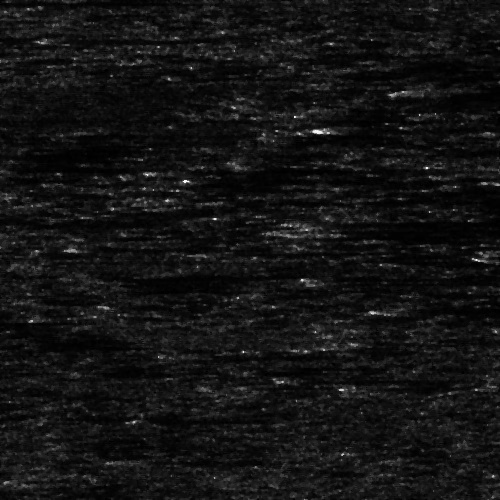object: (231, 208, 356, 231), (252, 124, 367, 133), (382, 85, 465, 94), (263, 374, 346, 383), (24, 242, 129, 249), (89, 456, 172, 463), (365, 305, 428, 314), (148, 352, 211, 357), (29, 37, 70, 42), (126, 416, 157, 421), (262, 230, 303, 233)
shadow: (294, 208, 500, 231), (310, 124, 500, 133), (305, 374, 481, 383), (77, 242, 242, 249), (131, 456, 295, 463), (397, 305, 500, 314), (180, 352, 352, 357), (50, 37, 212, 42), (424, 85, 500, 94), (283, 230, 500, 233), (0, 55, 115, 60), (142, 416, 255, 421), (0, 0, 143, 3), (0, 485, 28, 494), (0, 320, 66, 323)
